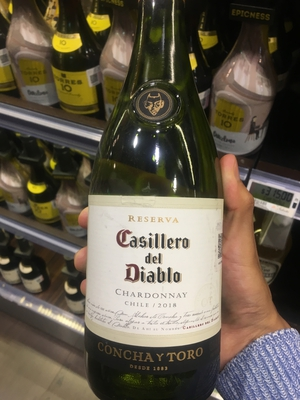casillero del diablo chardonnay: (84, 29, 231, 393)
